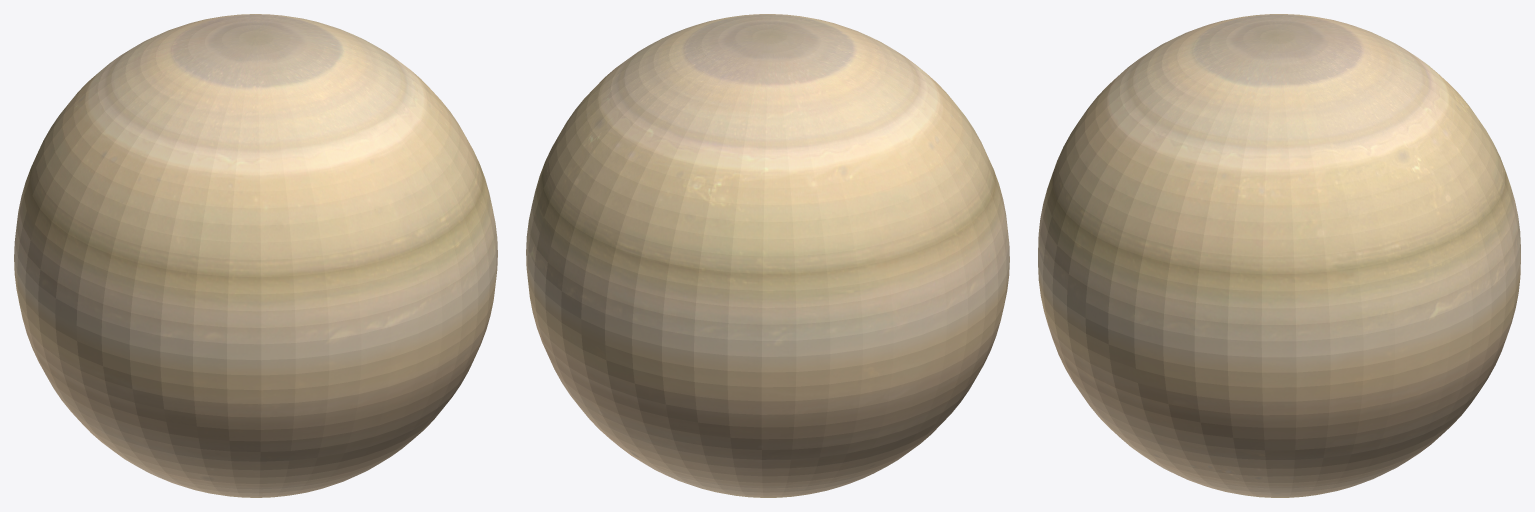
The model's file is saturn.obj.
3 views of the same model, side by side, from view 1: azimuth 30°, elevation 25°; view 2: azimuth 150°, elevation 25°; view 3: azimuth 270°, elevation 25° (orthographic).
Parts seen in each view (by area): view 1: Plane; view 2: Plane; view 3: Plane.
Part boxes in pixels (bbox=[...]): Plane: bbox=[14, 14, 497, 497]; Plane: bbox=[526, 14, 1009, 497]; Plane: bbox=[1038, 14, 1520, 497].
Size of the model in its own units: 3.53 by 3.54 by 3.53.
Materials: 1 (1 with a texture image).
